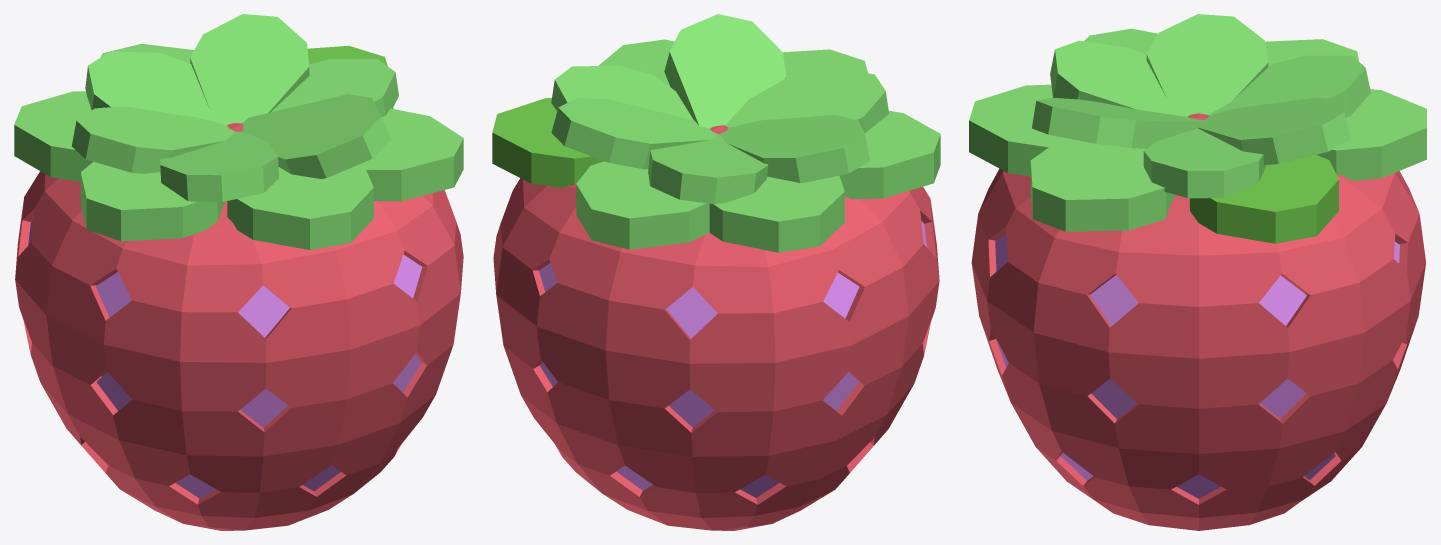
File: strawberry.glb
3 views of the same model, side by side, from view 1: azimuth 30°, elevation 25°; view 2: azimuth 150°, elevation 25°; view 3: azimuth 270°, elevation 25° (orthographic). The views are drawn at different scales.
Visible parts, largest first — view 1: Cube.001, Plane.011, Plane.003, Plane.007, Plane.004, Plane.009, Plane.002, Plane.010, Cube, Plane.008, Plane.005, Plane.006 (+2 smaller); view 2: Cube.001, Plane.007, Plane, Plane.005, Plane.009, Plane.011, Plane.008, Plane.010, Plane.004, Plane.001, Cube, Plane.006 (+2 smaller); view 3: Cube.001, Plane.002, Plane.009, Plane.001, Plane.011, Plane, Plane.008, Plane.006, Cube, Plane.007, Plane.003, Plane.010 (+2 smaller).
Boxes of the visible parts, x1=… form: Cube.001: x1=15, y1=123, x2=463, y2=530; Plane.011: x1=190, y1=14, x2=309, y2=124; Plane.003: x1=227, y1=167, x2=373, y2=249; Plane.007: x1=242, y1=94, x2=390, y2=178; Plane.004: x1=80, y1=162, x2=224, y2=241; Plane.009: x1=71, y1=106, x2=235, y2=173; Plane.002: x1=350, y1=108, x2=463, y2=201; Plane.010: x1=85, y1=51, x2=228, y2=124; Cube: x1=28, y1=221, x2=421, y2=498; Plane.008: x1=160, y1=131, x2=278, y2=201; Plane.005: x1=14, y1=91, x2=92, y2=181; Plane.006: x1=271, y1=59, x2=398, y2=116; Cube.001: x1=493, y1=125, x2=939, y2=530; Plane.007: x1=664, y1=14, x2=786, y2=128; Plane: x1=576, y1=161, x2=709, y2=249; Plane.005: x1=709, y1=175, x2=844, y2=252; Plane.009: x1=719, y1=115, x2=869, y2=182; Plane.011: x1=551, y1=98, x2=716, y2=169; Plane.008: x1=725, y1=67, x2=888, y2=132; Plane.010: x1=648, y1=134, x2=768, y2=204; Plane.004: x1=839, y1=111, x2=940, y2=199; Plane.001: x1=492, y1=97, x2=603, y2=187; Cube: x1=539, y1=221, x2=926, y2=497; Plane.006: x1=551, y1=65, x2=693, y2=120; Cube.001: x1=971, y1=113, x2=1425, y2=530; Plane.002: x1=1030, y1=139, x2=1175, y2=231; Plane.009: x1=1146, y1=14, x2=1268, y2=114; Plane.001: x1=1189, y1=155, x2=1338, y2=243; Plane.011: x1=1197, y1=97, x2=1350, y2=164; Plane: x1=1316, y1=89, x2=1426, y2=180; Plane.008: x1=1050, y1=40, x2=1189, y2=116; Plane.006: x1=1143, y1=128, x2=1266, y2=198; Cube: x1=995, y1=234, x2=1399, y2=498; Plane.007: x1=1032, y1=97, x2=1206, y2=148; Plane.003: x1=969, y1=84, x2=1073, y2=176; Plane.010: x1=1209, y1=55, x2=1370, y2=117.
Bounding box in the file's own units: 1.91 × 2.05 × 1.93.
